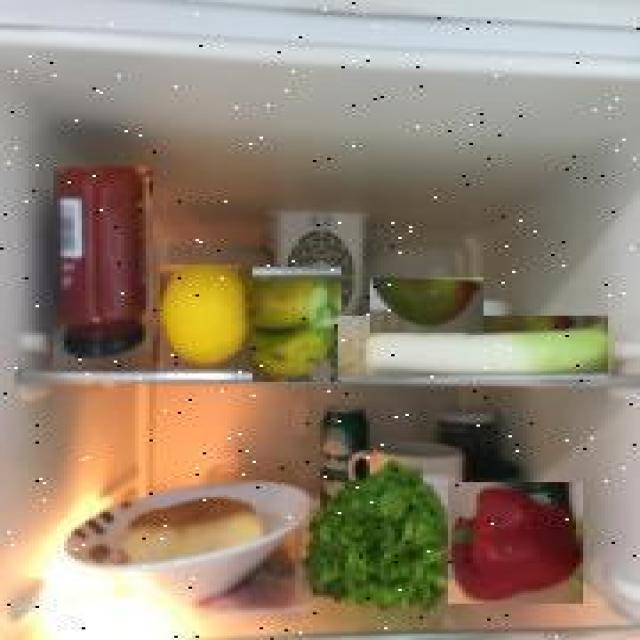banana: (252, 267, 342, 382)
bell_pepper: (448, 482, 583, 604)
leek: (340, 317, 610, 381)
lemon: (162, 265, 254, 369)
mango: (372, 278, 486, 334)
salad: (309, 460, 455, 615)
tomato_sauce: (53, 166, 153, 369)
